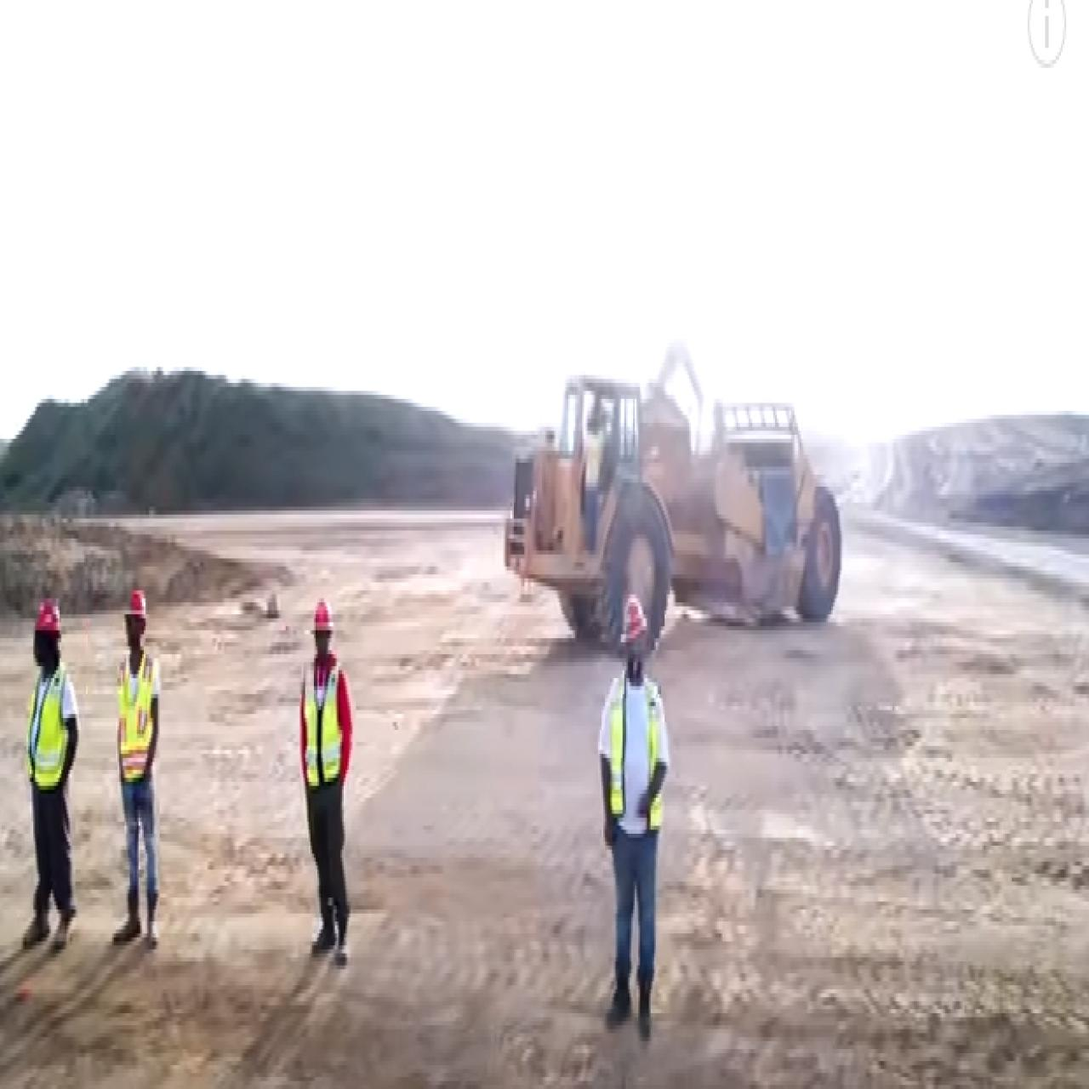Person: (596, 586, 672, 1031), (291, 577, 359, 985), (22, 589, 86, 960), (112, 577, 163, 966)
Safety_Vest: (611, 668, 666, 836), (114, 656, 160, 798), (26, 673, 74, 795), (301, 659, 347, 786)
